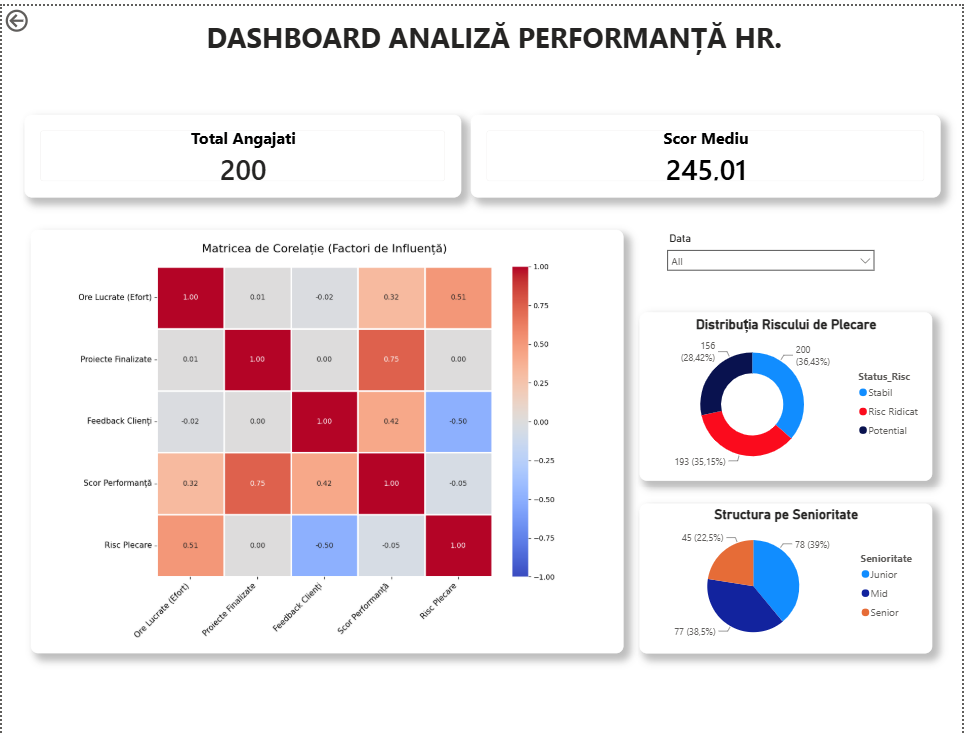

The page's visual inventory and layout, read from the dashboard file:
{"tool":"powerbi","page":{"name":"Analiza performanta HR","canvas":[1280,1100],"ordinal":1},"visuals":[{"type":"pythonVisual","fields":{"Values":["date_angajati.Ore_Lucrate","date_angajati.Proiecte_Finalizate","date_angajati.Feedback_Clienti","date_angajati.Scor_Performanta","date_angajati.Risc_Plecare_Scor"]},"box":[37.5,297.5,790,565],"z":0},{"type":"textbox","box":[73.6,11,1165.7,61.4],"z":1000},{"type":"slicer","fields":{"Values":["date_angajati.Data"]},"box":[876.7,296.7,296.7,66.7],"z":2000},{"type":"donutChart","title":"Distribuția Riscului de Plecare","fields":{"Category":["date_angajati.Status_Risc"],"Y":["Count(date_angajati.ID_Angajat)"]},"box":[850,407.5,390,225],"z":3000},{"type":"pieChart","title":"Structura pe Senioritate","fields":{"Category":["date_angajati.Senioritate"],"Y":["Count(date_angajati.ID_Angajat)"]},"box":[850,662.5,390,200],"z":4000},{"type":"actionButton","box":[0,0,60.7,39.3],"z":5000},{"type":"cardVisual","fields":{"Data":["Count(date_angajati.ID_Angajat)"]},"box":[30.4,144.6,582.1,110.7],"z":6000},{"type":"cardVisual","fields":{"Data":["Avg(date_angajati.Scor_Performanta)"]},"box":[625,144.6,626.8,110.7],"z":7000}]}

Visuals, with their boxes on the page's 1280x1100 design canvas (x1, y1, x2, y2). These are canvas units, not pixel positions in the 966x733 screenshot, which may show the page scaled, cropped or inside an application window:
pythonVisual - date_angajati.Ore_Lucrate x date_angajati.Proiecte_Finalizate: rect(38, 298, 828, 862)
textbox: rect(74, 11, 1239, 72)
slicer - date_angajati.Data: rect(877, 297, 1173, 363)
"Distribuția Riscului de Plecare" donutChart: rect(850, 408, 1240, 632)
"Structura pe Senioritate" pieChart: rect(850, 662, 1240, 862)
actionButton: rect(0, 0, 61, 39)
cardVisual - Count(date_angajati.ID_Angajat): rect(30, 145, 612, 255)
cardVisual - Avg(date_angajati.Scor_Performanta): rect(625, 145, 1252, 255)
